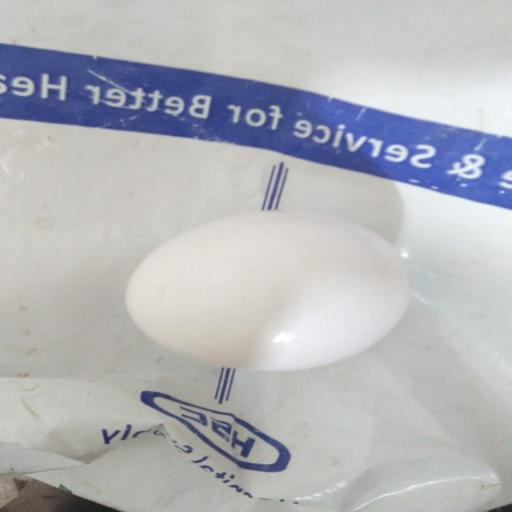telur: (124, 211, 410, 374)
